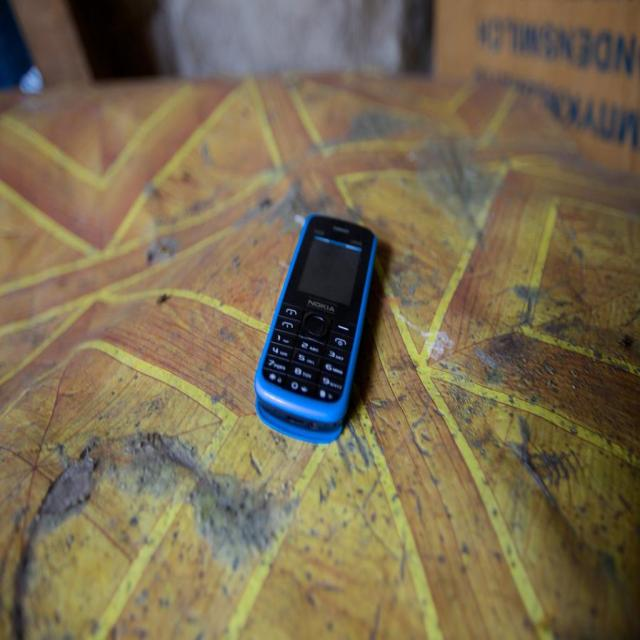Phone: (251, 210, 379, 441)
